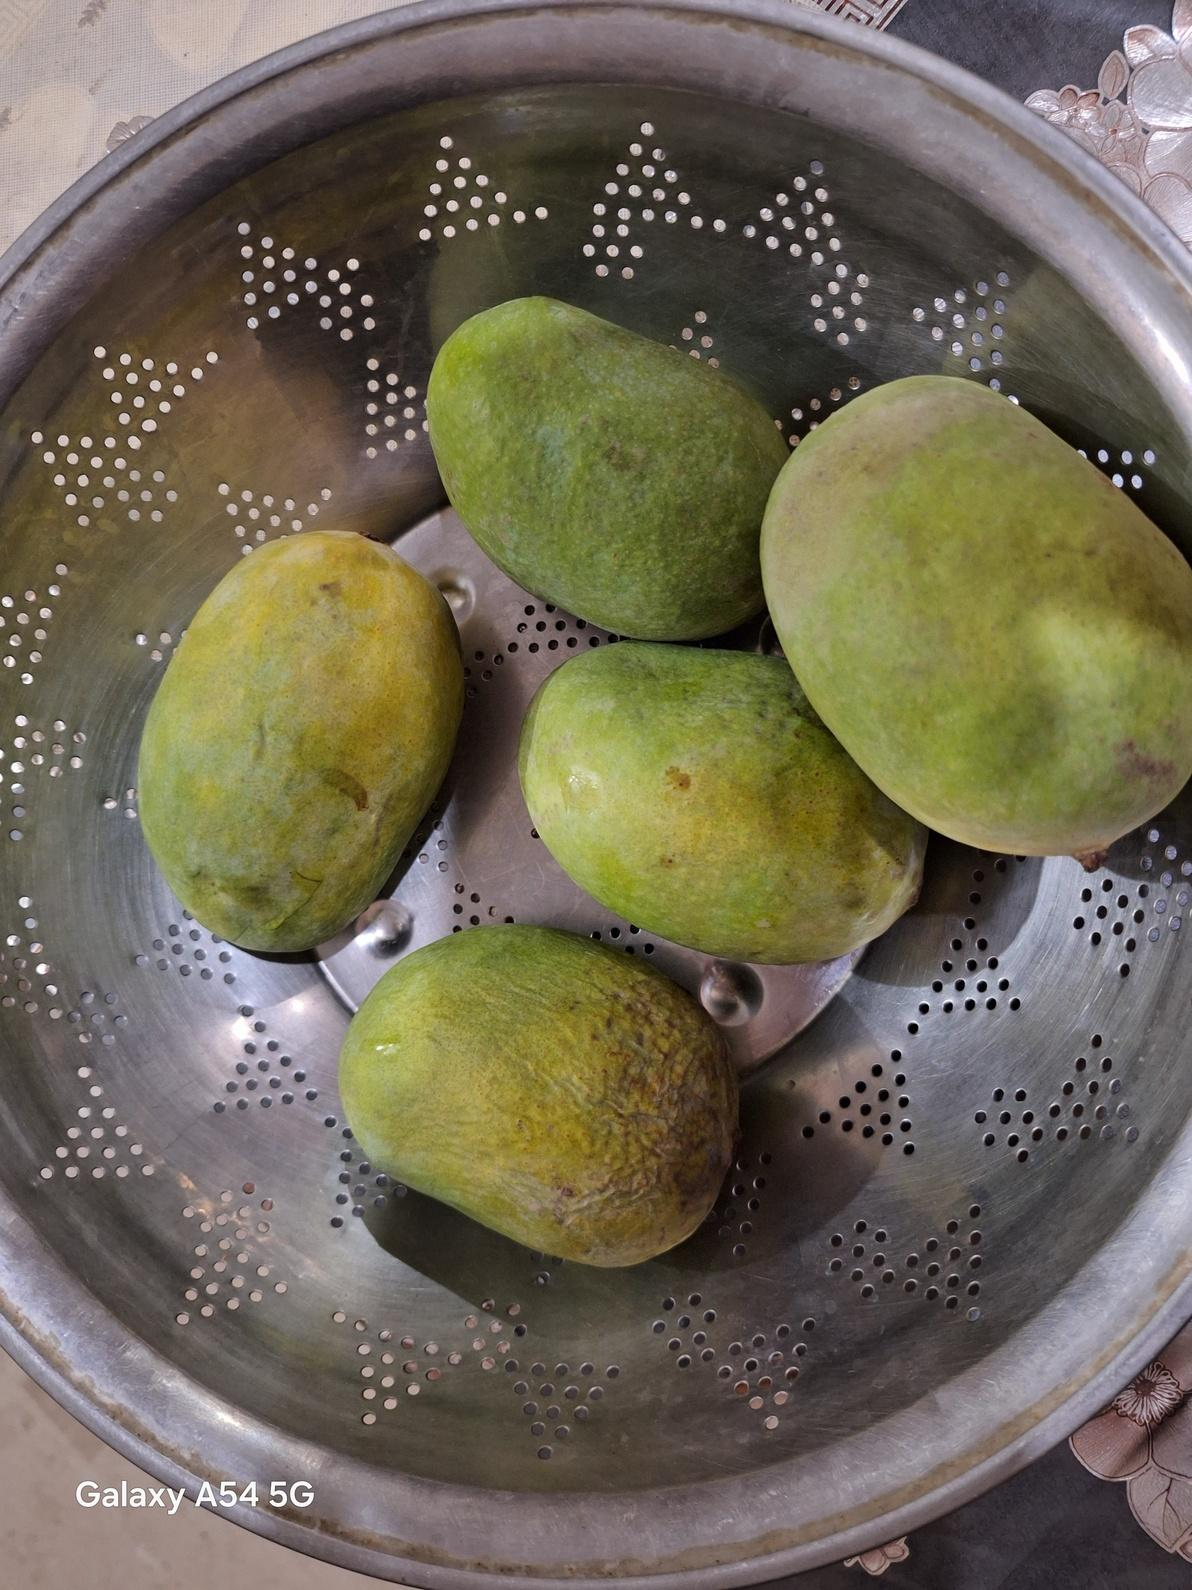mango: (758, 372, 1191, 868), (336, 921, 741, 1269), (135, 528, 465, 955), (516, 639, 928, 965), (424, 293, 789, 642)
